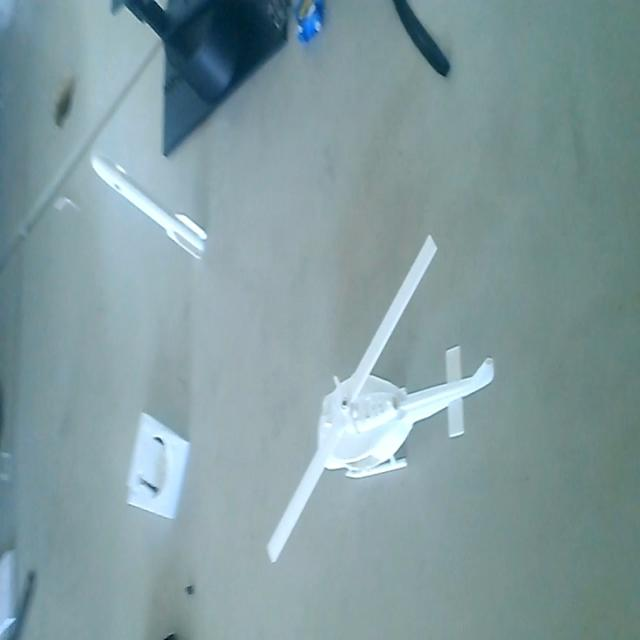Helicopter: (258, 230, 500, 592)
Rocket: (90, 148, 206, 273)
